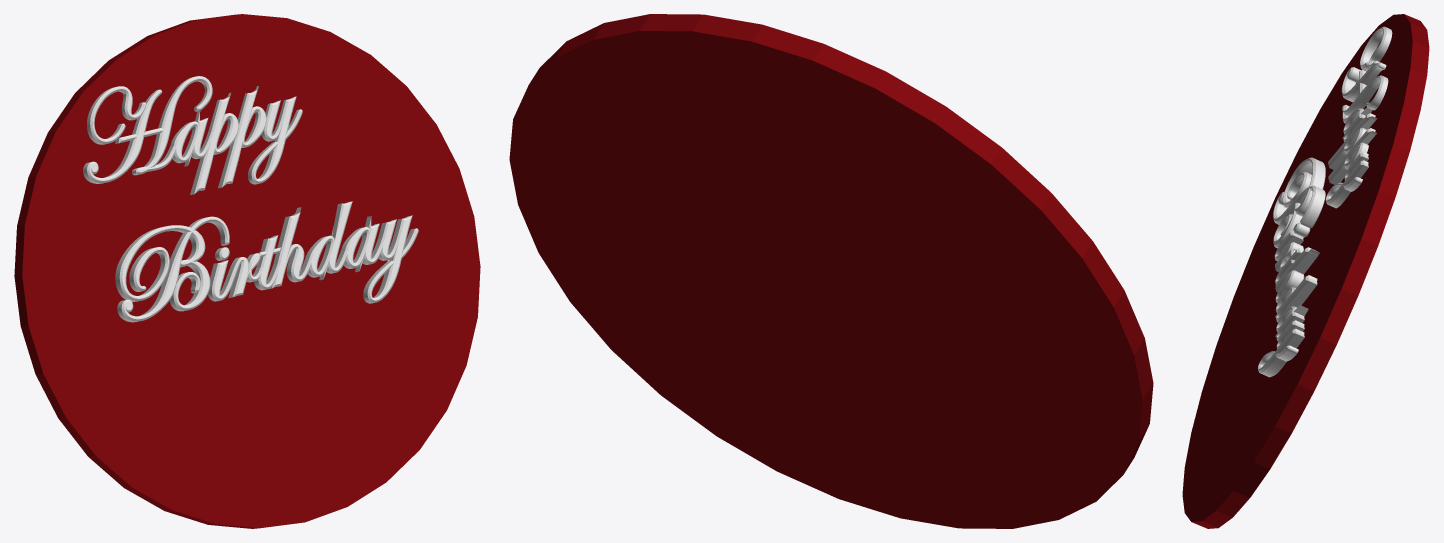
The model's file is hbdcoklat.fbx.
3 renders of one model, left to right at view 1: azimuth 30°, elevation 25°; view 2: azimuth 150°, elevation 25°; view 3: azimuth 270°, elevation 25°, orthographic. The views are drawn at different scales.
Parts seen in each view (by area): view 1: Text; view 2: Text; view 3: Text.
Part boxes in pixels (x1,y1,x2,y2): Text: [14, 14, 480, 528]; Text: [509, 14, 1153, 528]; Text: [1182, 14, 1429, 528].
Size of the model in its own units: 312 by 288 by 140.
